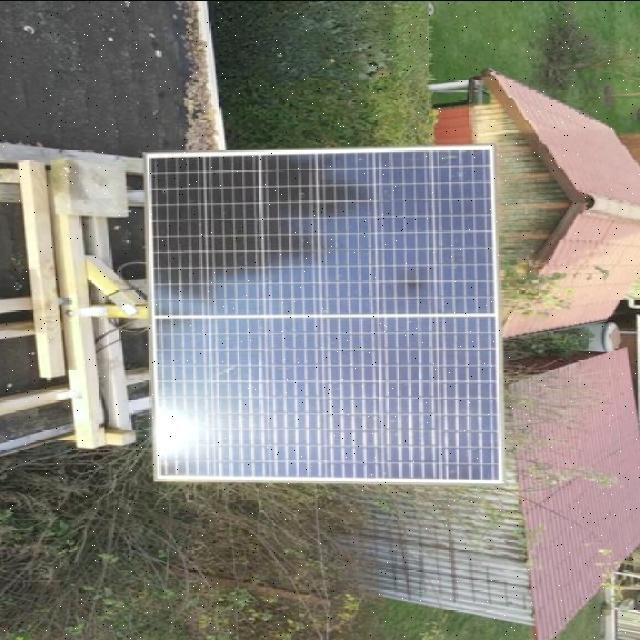Normal Solar Panel: (148, 146, 502, 482)
